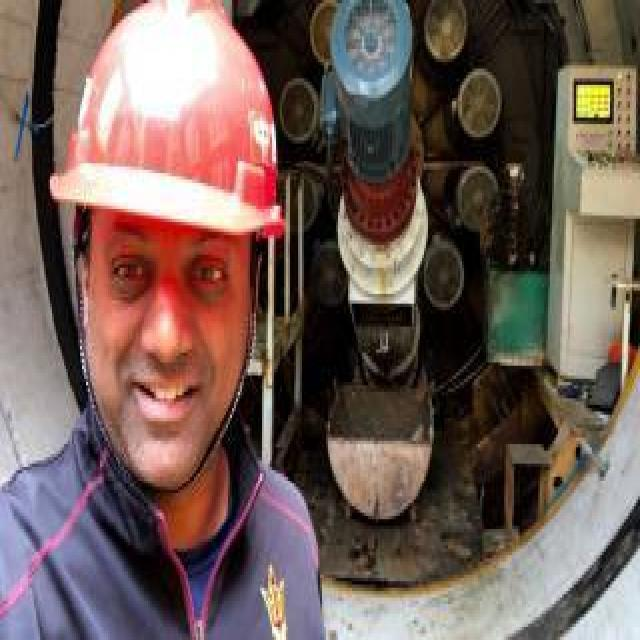hat: (50, 0, 286, 242)
